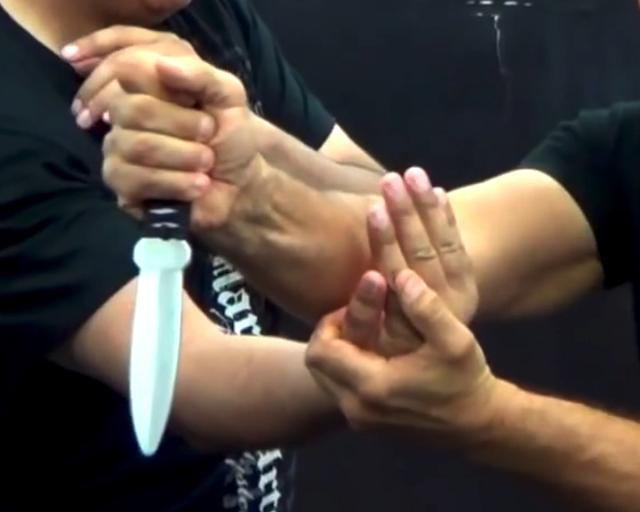pocket-knife: (122, 142, 214, 458)
